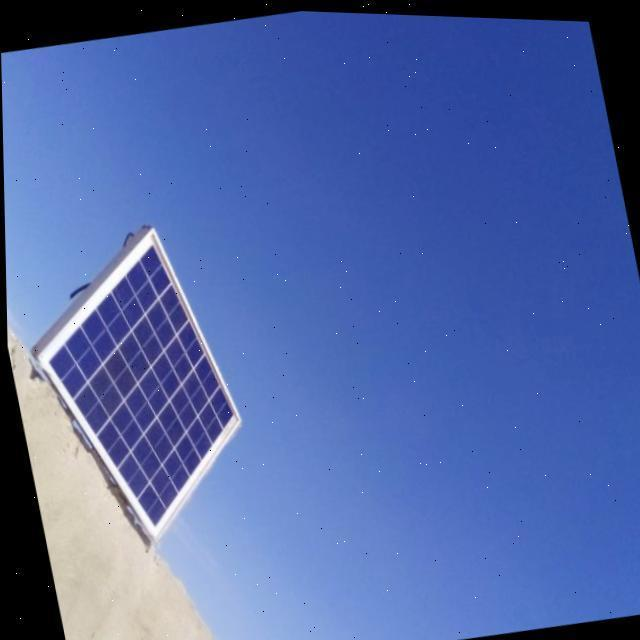Normal Solar Panel: (13, 214, 258, 558)
